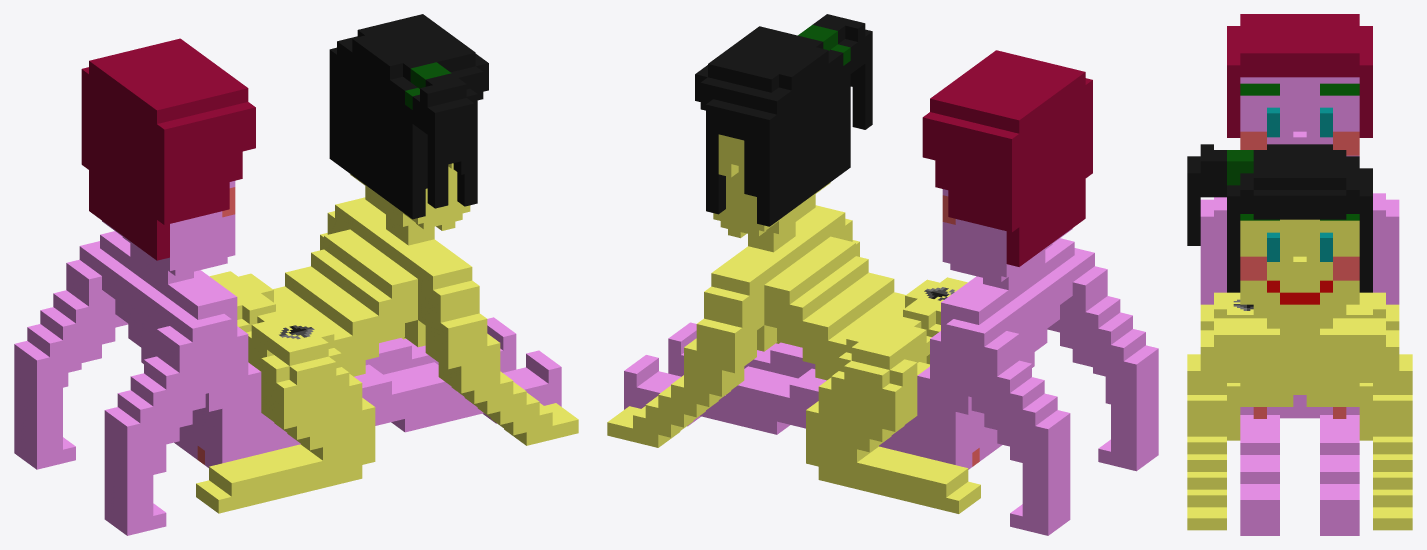
The model's file is kama52.glb.
3 renders of one model, left to right at view 1: azimuth 30°, elevation 25°; view 2: azimuth 150°, elevation 25°; view 3: azimuth 270°, elevation 25°, orthographic. The views are drawn at different scales.
Visible parts, largest first — view 1: Node; view 2: Node; view 3: Node.
Boxes of the visible parts, bbox=[...] form: Node: bbox=[14, 14, 578, 535]; Node: bbox=[607, 14, 1158, 535]; Node: bbox=[1187, 14, 1412, 535].
Size of the model in its own units: 14 by 11.6 by 6.8.
Materials: 1 (1 with a texture image).
